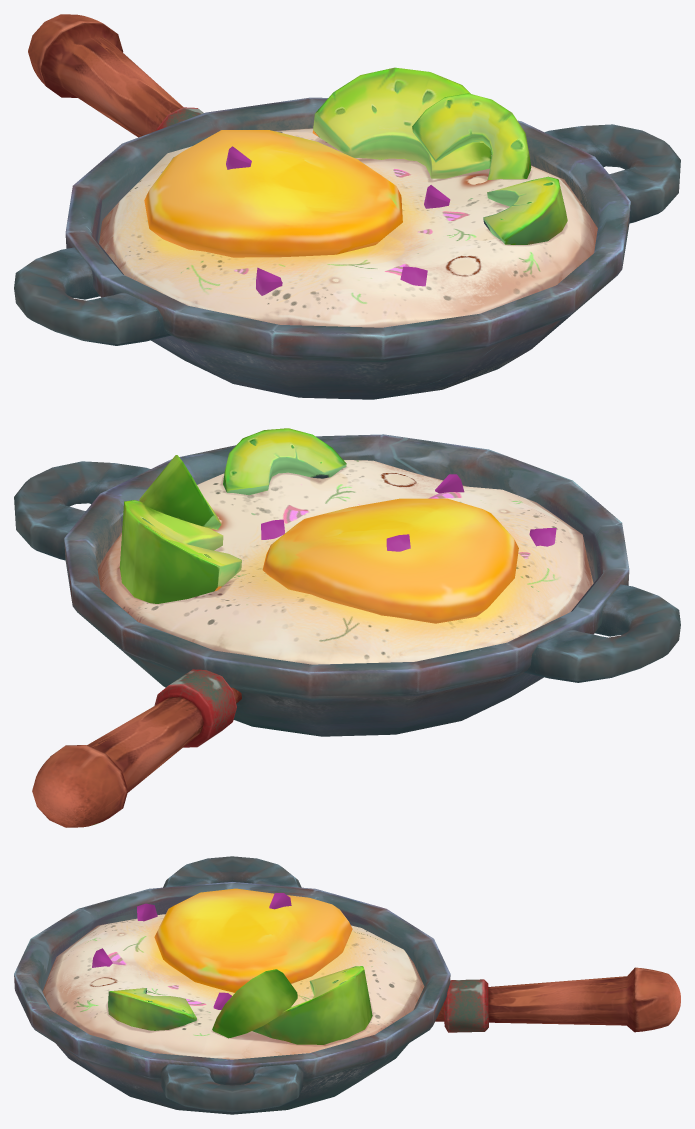
Rendered from stylized_frying_pan.glb.
3 views of the same model, one above another, from view 1: azimuth 30°, elevation 25°; view 2: azimuth 150°, elevation 25°; view 3: azimuth 270°, elevation 25° (orthographic). The views are drawn at different scales.
Visible parts, largest first — view 1: Sphere.002; view 2: Sphere.002; view 3: Sphere.002.
Boxes of the visible parts, x1,y1,x2,y2 form: Sphere.002: (14, 14, 680, 399); Sphere.002: (14, 428, 680, 827); Sphere.002: (14, 856, 680, 1114).
Size of the model in its own units: 178 by 51.17 by 208.
1 material, 1 textured.
